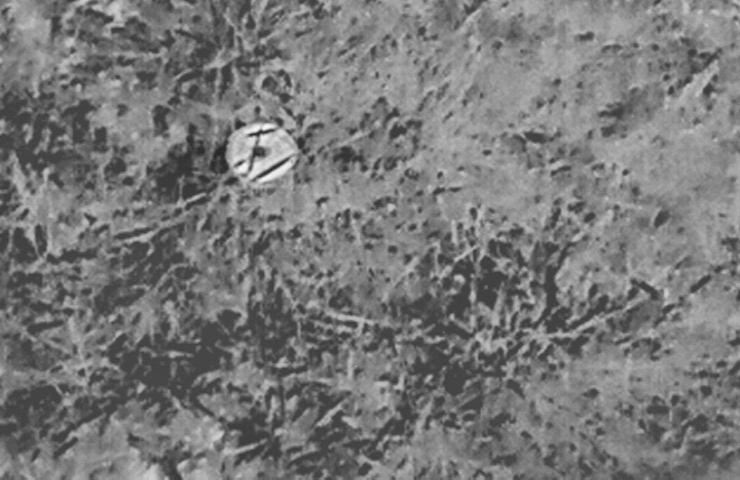landmines: (222, 119, 302, 191)
